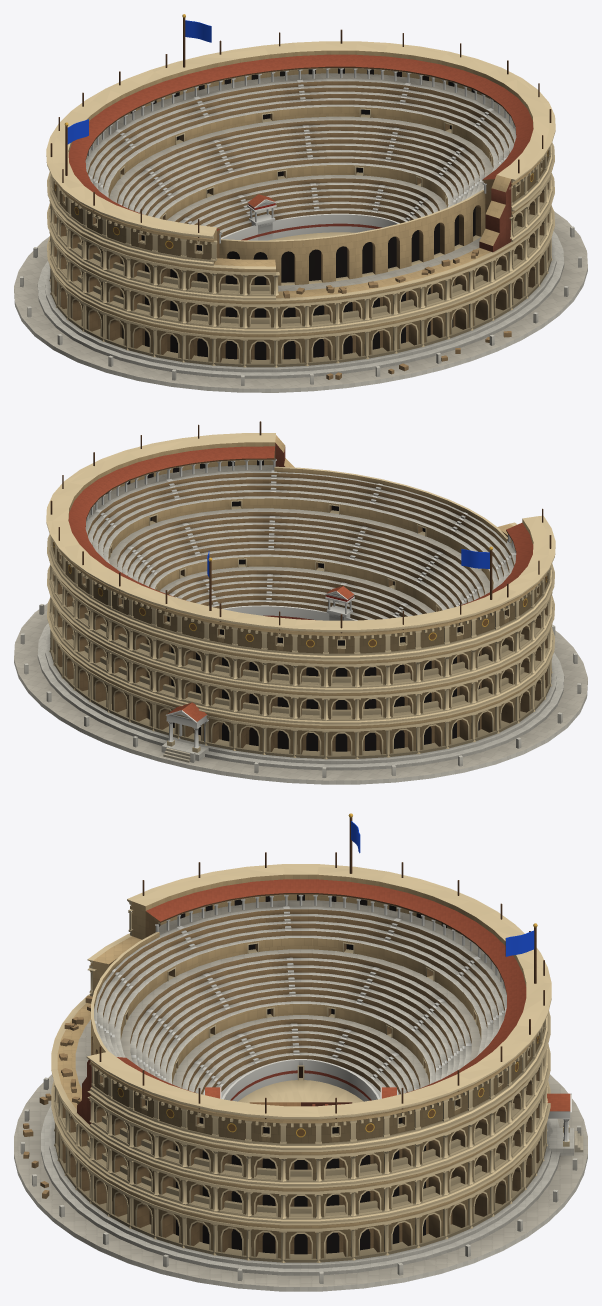
Rendered from lm_kolezyum.glb.
3 views of the same model, one above another, from view 1: azimuth 30°, elevation 25°; view 2: azimuth 150°, elevation 25°; view 3: azimuth 270°, elevation 25° (orthographic). The views are drawn at different scales.
Visible parts, largest first — view 1: lm_kolezyum; view 2: lm_kolezyum; view 3: lm_kolezyum.
Part boxes in pixels (x1,y1,x2,y2): lm_kolezyum: (14,14,587,392); lm_kolezyum: (14,421,587,784); lm_kolezyum: (14,813,587,1291).
Bounding box in the file's own units: 2.61 × 0.942 × 2.24.
Materials: 1 (1 with a texture image).
